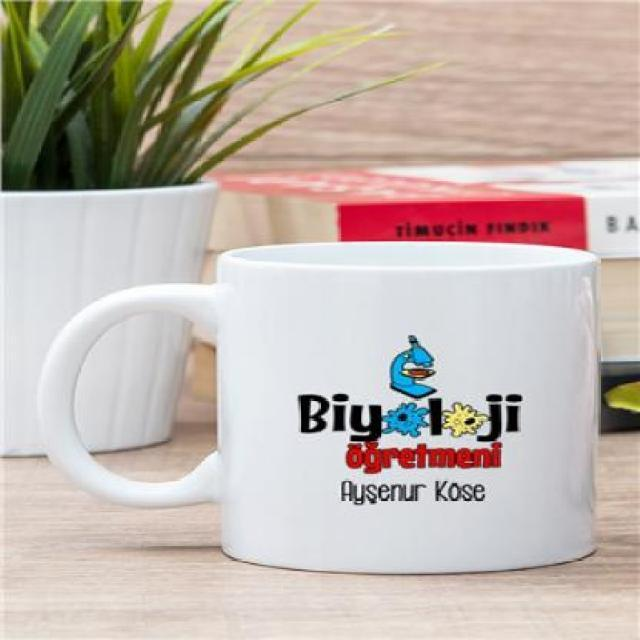taza: (37, 241, 604, 576)
